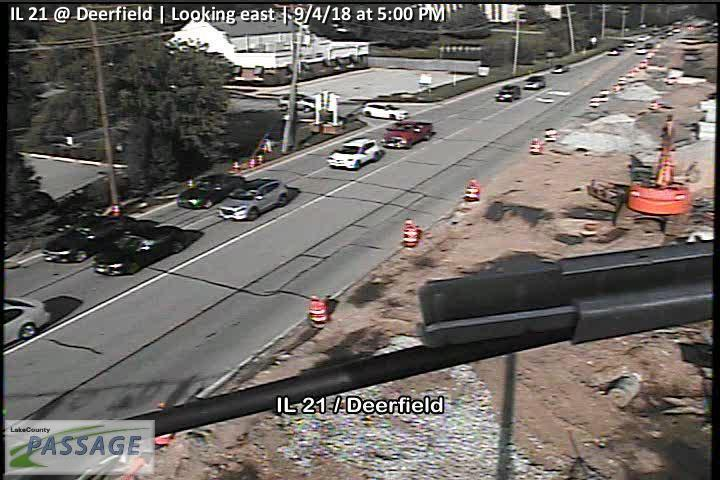Sedan: (92, 225, 186, 275), (40, 215, 136, 262), (213, 178, 288, 222), (176, 174, 246, 208), (326, 136, 382, 171), (382, 118, 432, 148), (361, 101, 408, 120), (493, 85, 522, 102), (522, 74, 547, 90)
